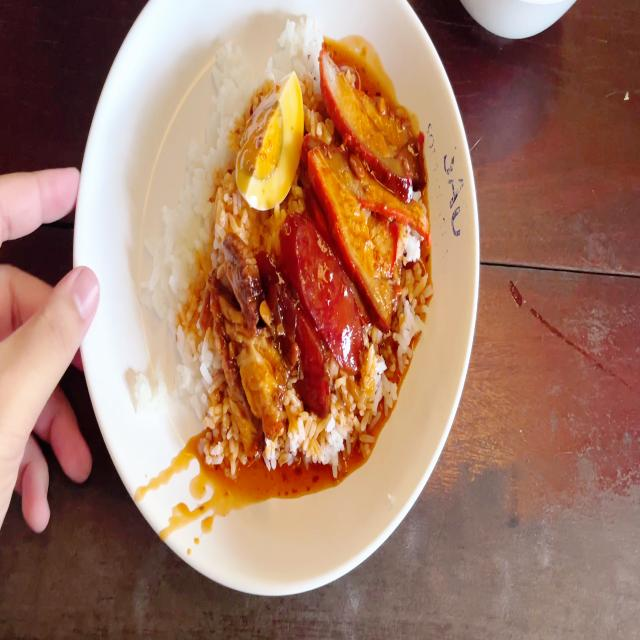boiled_egg: (248, 82, 296, 206)
chainese_sausage: (278, 234, 360, 397)
crispy_pork: (237, 347, 300, 442), (221, 257, 272, 341)
red_pork: (323, 139, 430, 301), (319, 67, 411, 161)
red_pork_and_crispy_pork: (169, 48, 399, 440)
rice: (164, 57, 209, 350), (170, 156, 217, 422)
